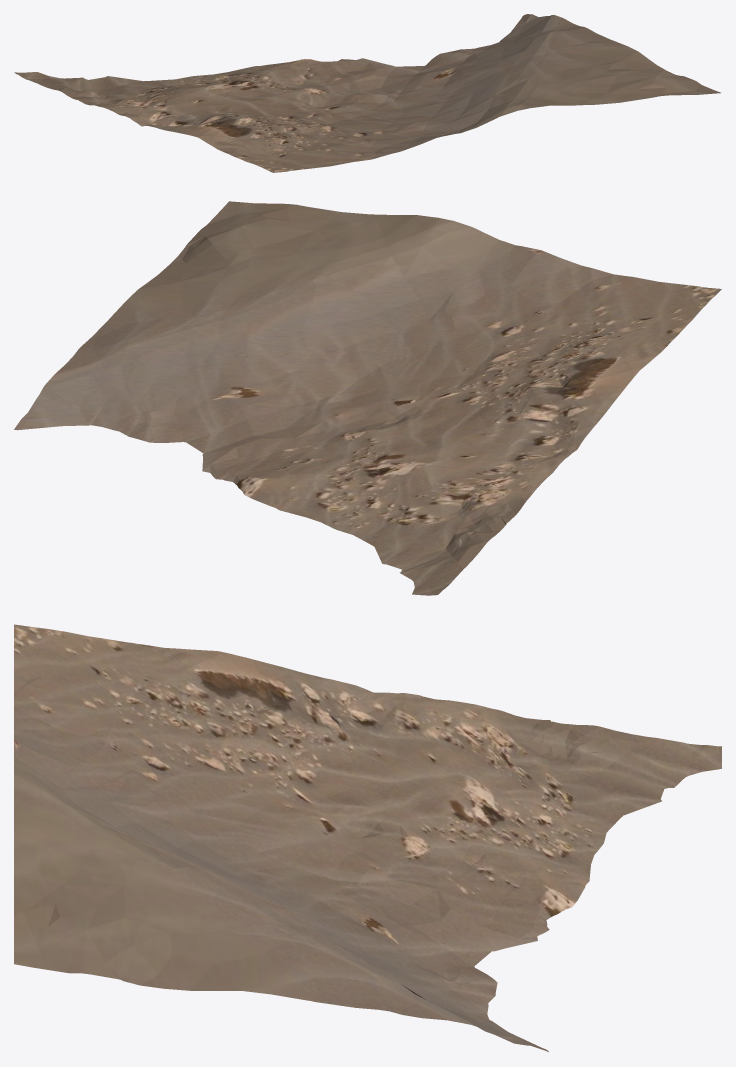
The picture shows the model from 3 angles, top to bottom: view 1: azimuth 30°, elevation 25°; view 2: azimuth 150°, elevation 25°; view 3: azimuth 270°, elevation 25°; orthographic projection. The views are drawn at different scales.
Bounding box in the file's own units: 1.04 × 0.2152 × 1.04.
Materials: 2 (2 with a texture image).
